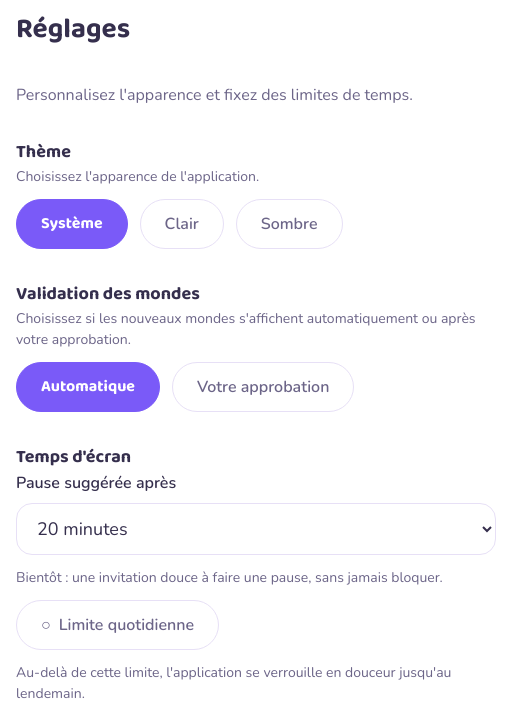
Test: SettingsForm — validation des mondes (source de vérité du worker) › « Votre approbation » ⇒ saveSettingsAction({parentWorldValidation:true})
This screenshot has width=513, height=713.
Step 1. Click the button "Votre approbation" → (263, 387), box left=172, top=362, right=354, bottom=412
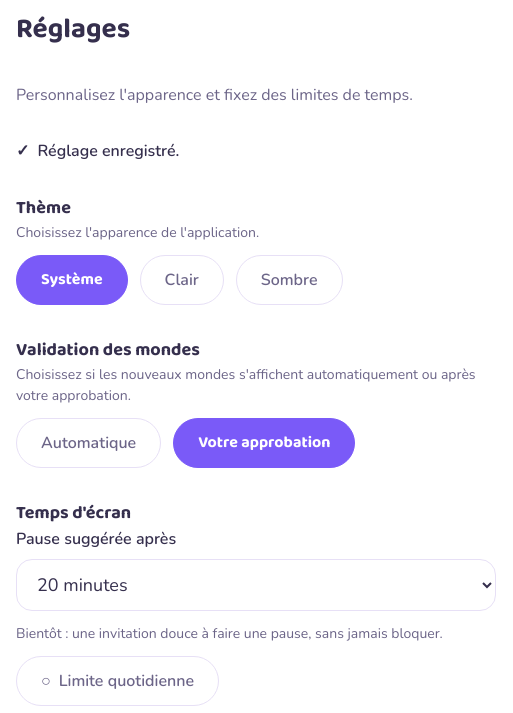
Now the message "✓ Réglage enregistré." is shown, box left=16, top=140, right=179, bottom=162
